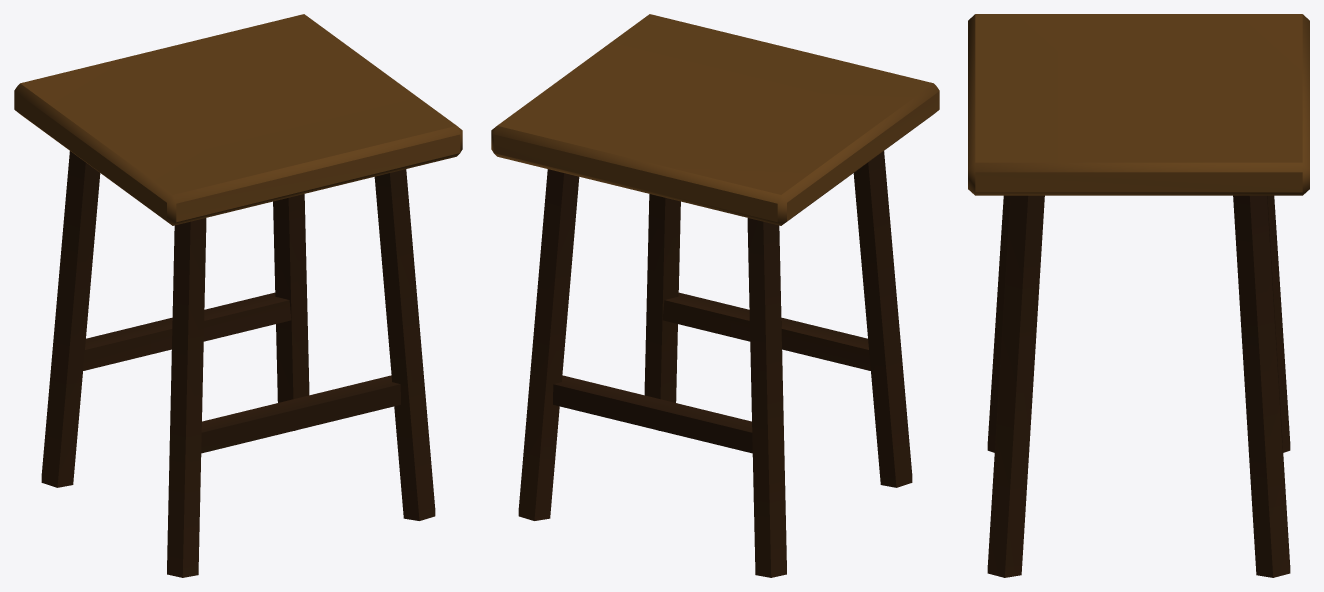
Rendered from school-stool-wood.glb.
3 renders of one model, left to right at view 1: azimuth 30°, elevation 25°; view 2: azimuth 150°, elevation 25°; view 3: azimuth 270°, elevation 25°, orthographic. The views are drawn at different scales.
Parts seen in each view (by area): view 1: stool__wood; view 2: stool__wood; view 3: stool__wood.
Part boxes in pixels (<box>): stool__wood: <box>14,14,462,577</box>; stool__wood: <box>491,14,939,577</box>; stool__wood: <box>968,14,1309,577</box>.
Size of the model in its own units: 0.3 by 0.3812 by 0.28.
